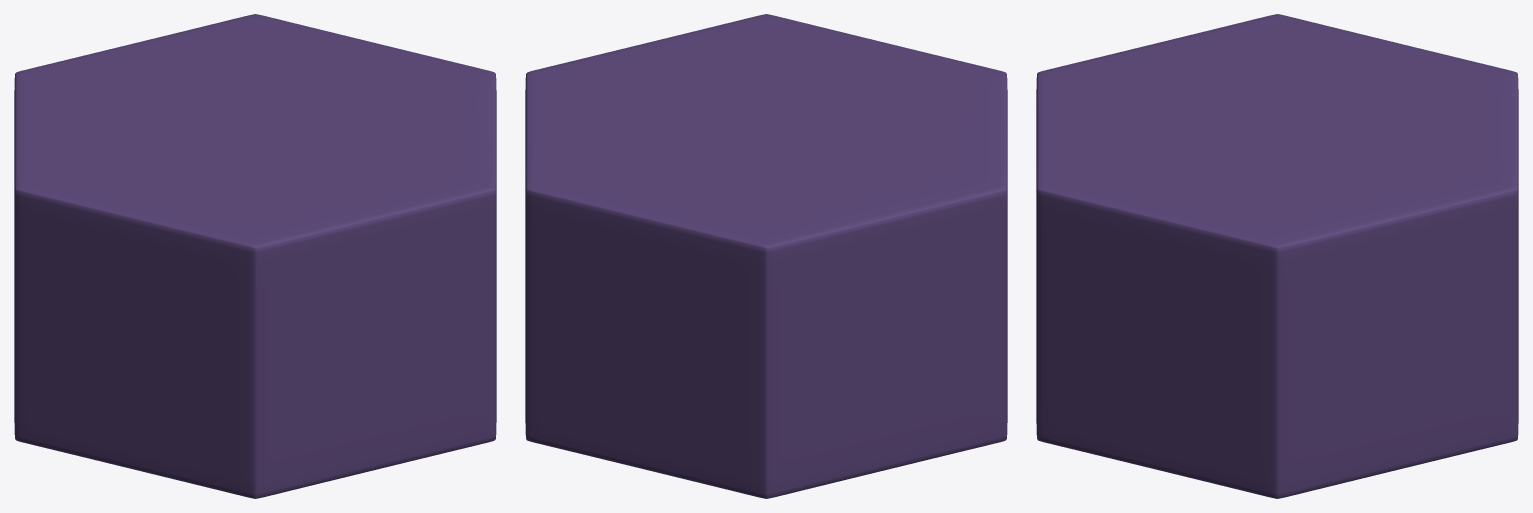
Rendered from PrismaHexagonal.gltf.
3 views of the same model, side by side, from view 1: azimuth 30°, elevation 25°; view 2: azimuth 150°, elevation 25°; view 3: azimuth 270°, elevation 25° (orthographic).
Visible parts, largest first — view 1: 23.Prismahexagonal; view 2: 23.Prismahexagonal; view 3: 23.Prismahexagonal.
Part boxes in pixels (left/top/right/bottom): 23.Prismahexagonal: left=14, top=14, right=496, bottom=498; 23.Prismahexagonal: left=525, top=14, right=1007, bottom=498; 23.Prismahexagonal: left=1036, top=14, right=1518, bottom=498.
Bounding box in the file's own units: 25.19 × 12.69 × 21.9.
